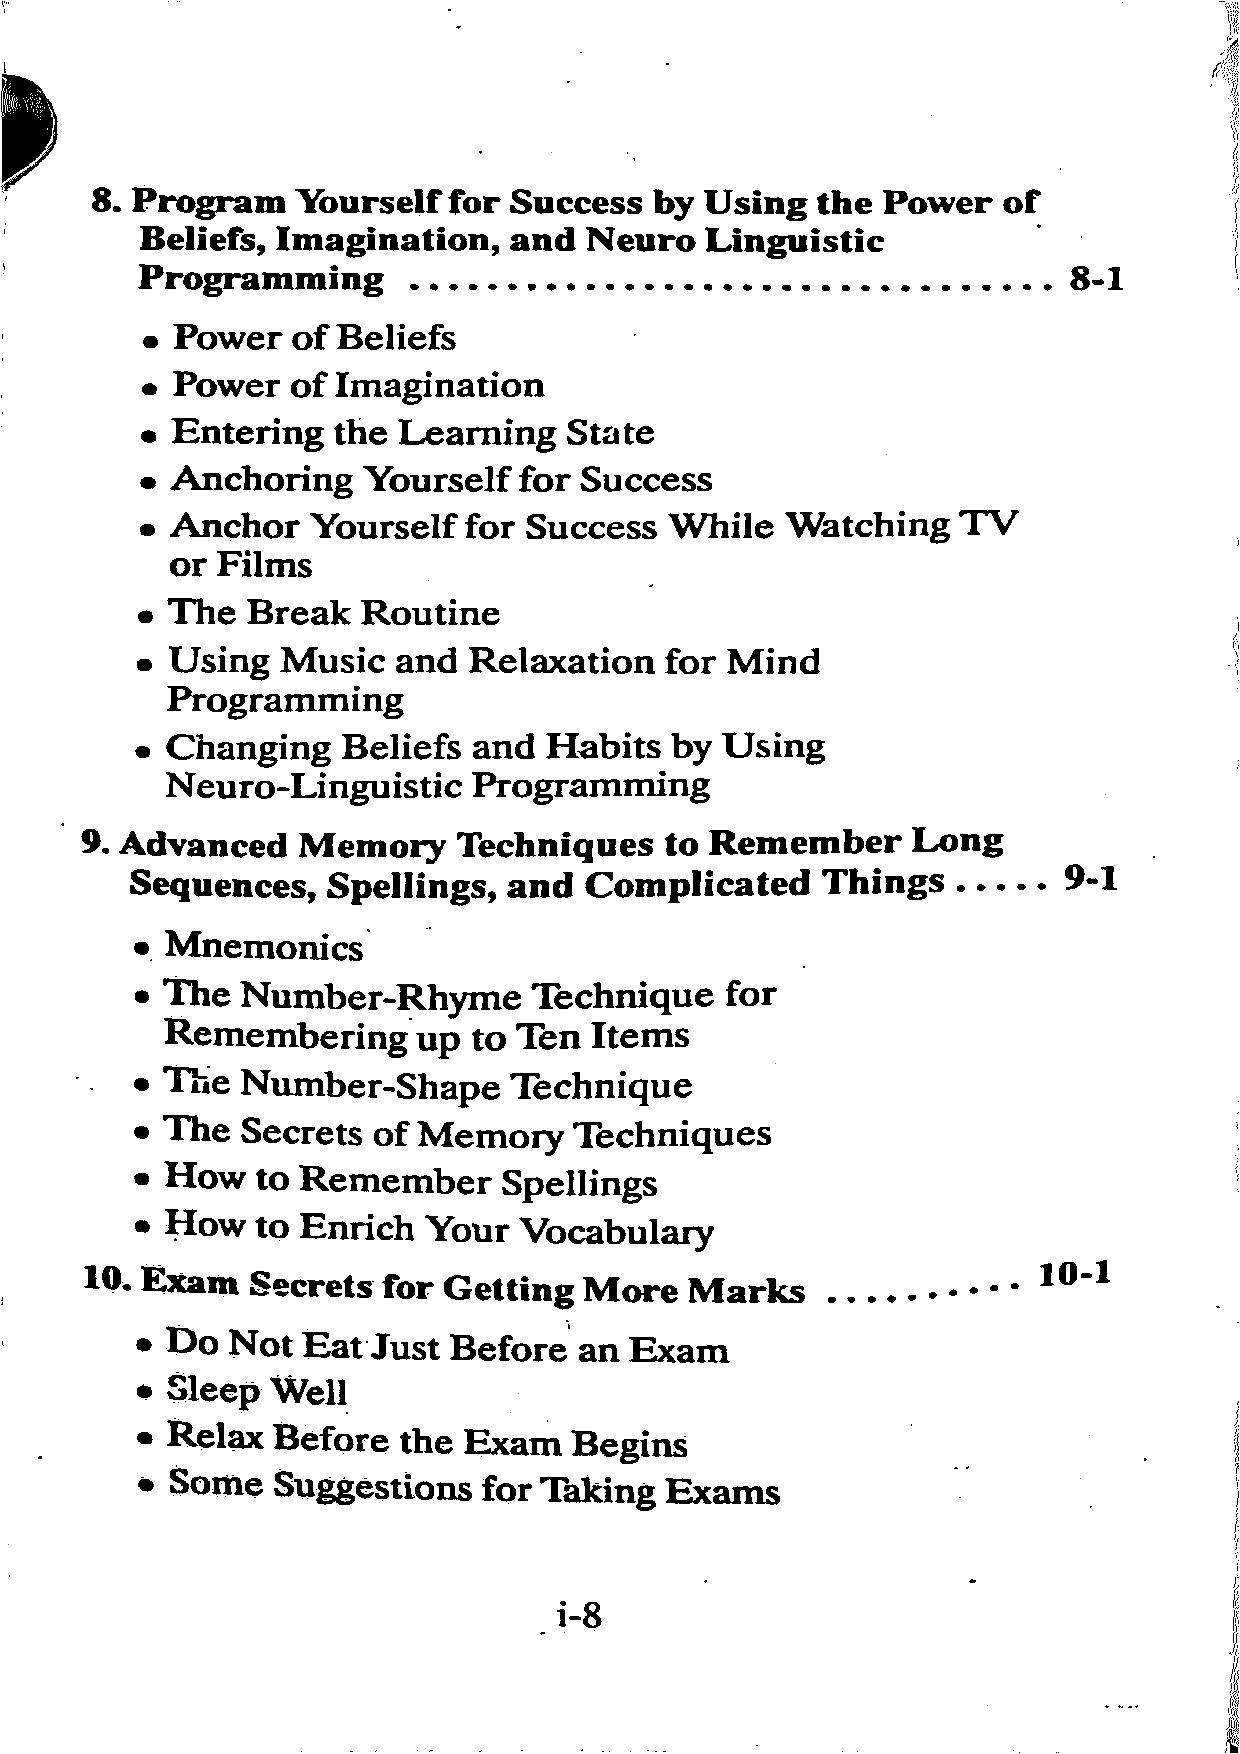TOC_chapter: (86, 176, 1044, 809), (66, 815, 1006, 1257), (68, 1260, 809, 1514)
TOC_pagenumber: (1033, 1239, 1117, 1298), (1063, 254, 1131, 297), (1066, 858, 1123, 898)
